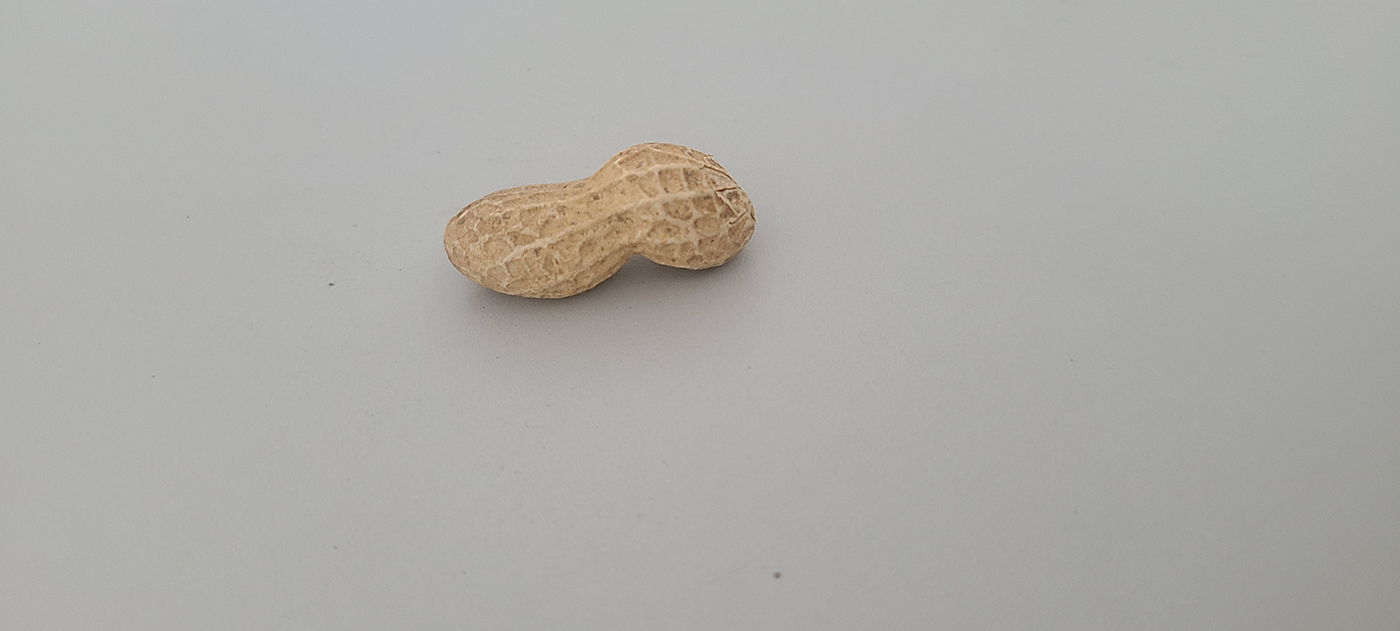h: (440, 137, 759, 304)
